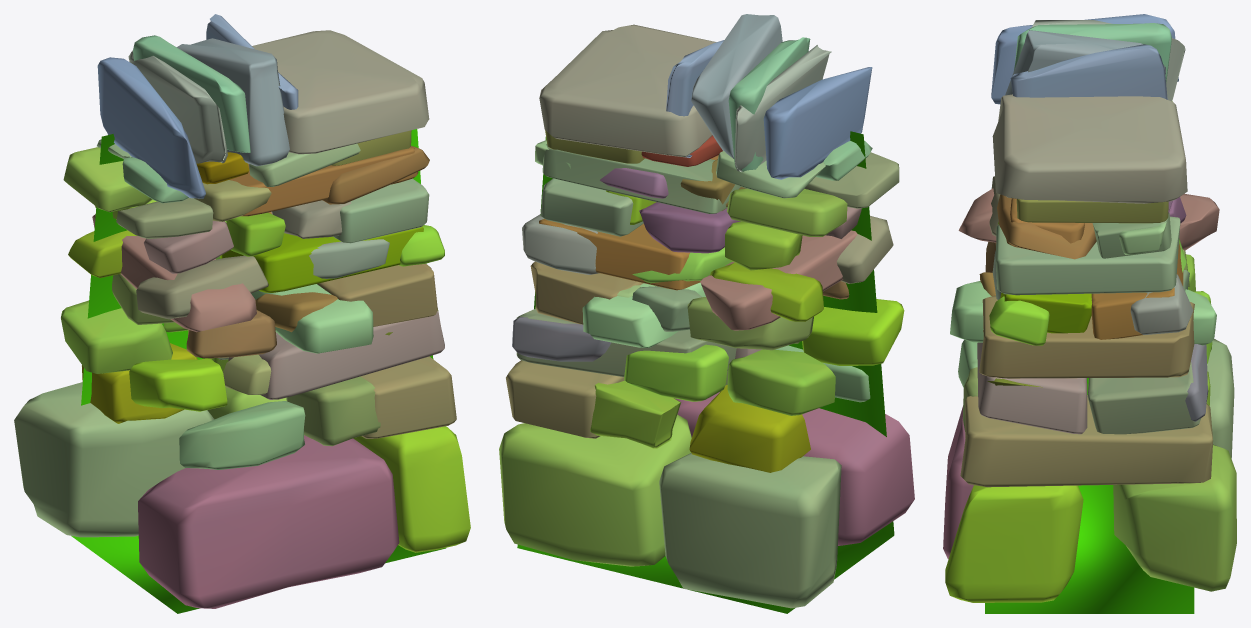
Rendered from SM_WallEnd_C.glb.
3 views of the same model, side by side, from view 1: azimuth 30°, elevation 25°; view 2: azimuth 150°, elevation 25°; view 3: azimuth 270°, elevation 25° (orthographic). The views are drawn at different scales.
Visible parts, largest first — view 1: SM_WallEnd_C; view 2: SM_WallEnd_C; view 3: SM_WallEnd_C.
Boxes of the visible parts, bbox=[...] form: SM_WallEnd_C: bbox=[14, 14, 470, 613]; SM_WallEnd_C: bbox=[499, 14, 914, 613]; SM_WallEnd_C: bbox=[943, 14, 1236, 613].
Size of the model in its own units: 1.15 by 1.74 by 0.9262.
